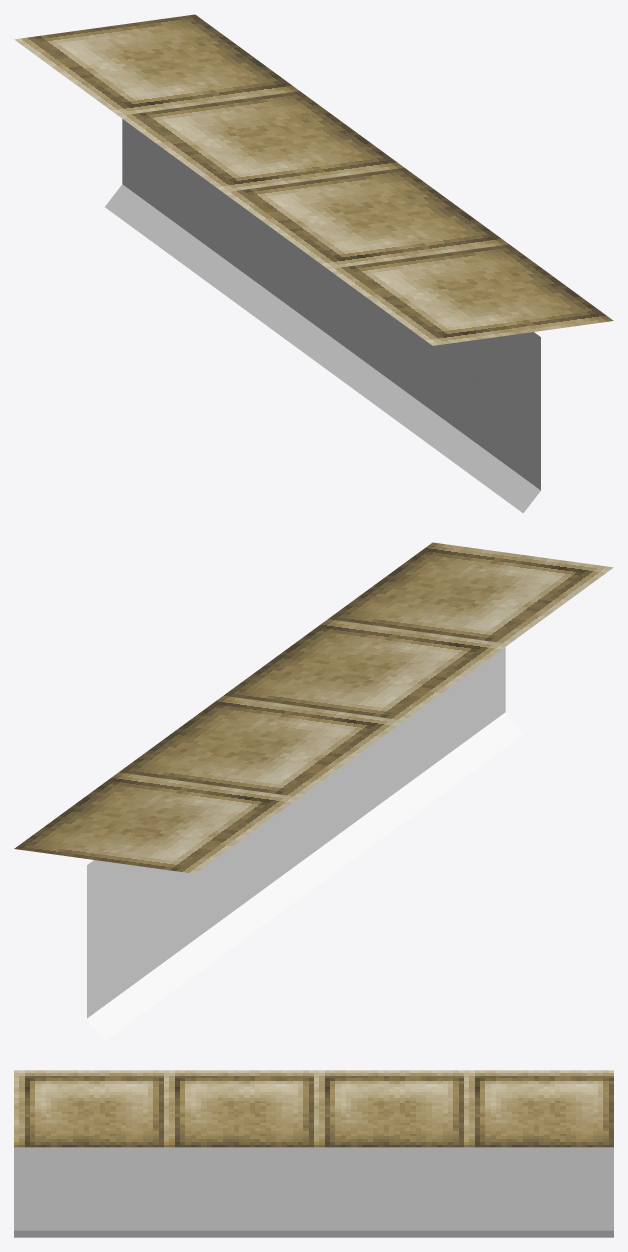
3 views of the same model, one above another, from view 1: azimuth 30°, elevation 25°; view 2: azimuth 150°, elevation 25°; view 3: azimuth 270°, elevation 25° (orthographic). The views are drawn at different scales.
Visible parts, largest first — view 1: prim175-Barrier-I; view 2: prim175-Barrier-I; view 3: prim175-Barrier-I.
Boxes of the visible parts, x1,y1,x2,y2 form: prim175-Barrier-I: [14, 14, 613, 513]; prim175-Barrier-I: [14, 542, 613, 1041]; prim175-Barrier-I: [14, 1070, 613, 1237].
Bounding box in the file's own units: 256 × 256 × 1024.
Materials: 2 (1 with a texture image).
